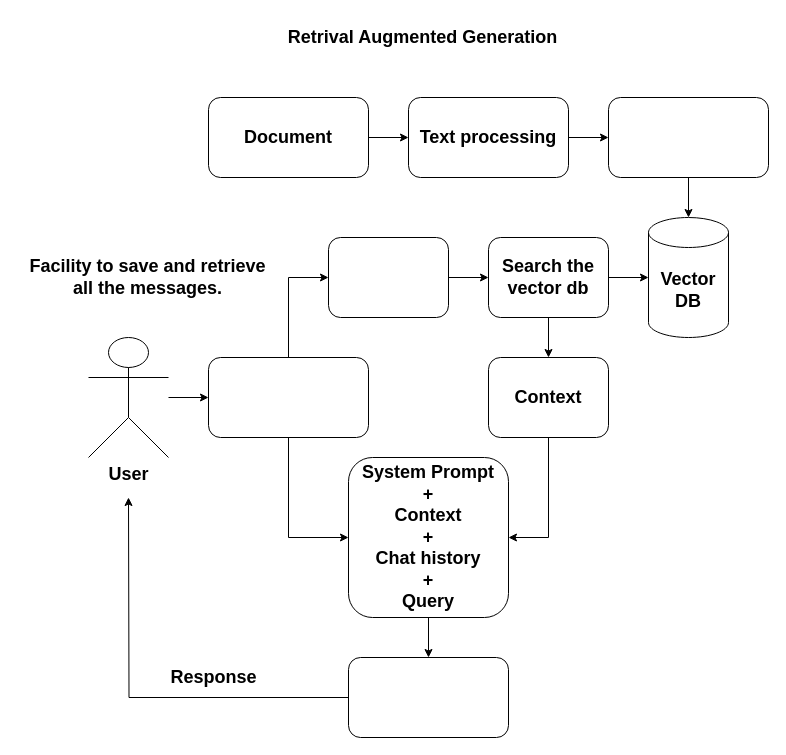
Image size: 786x755. Some labels were removed from this diagram. The box of each missing label's shape, as (x1, y1, x2, y2) in pixels:
Embeddings: (608, 96, 768, 178)
LLM (Gpt3.5, Gpt4): (348, 656, 508, 738)
Query + Chat history: (208, 356, 368, 438)
Question rephrase: (328, 236, 448, 318)
